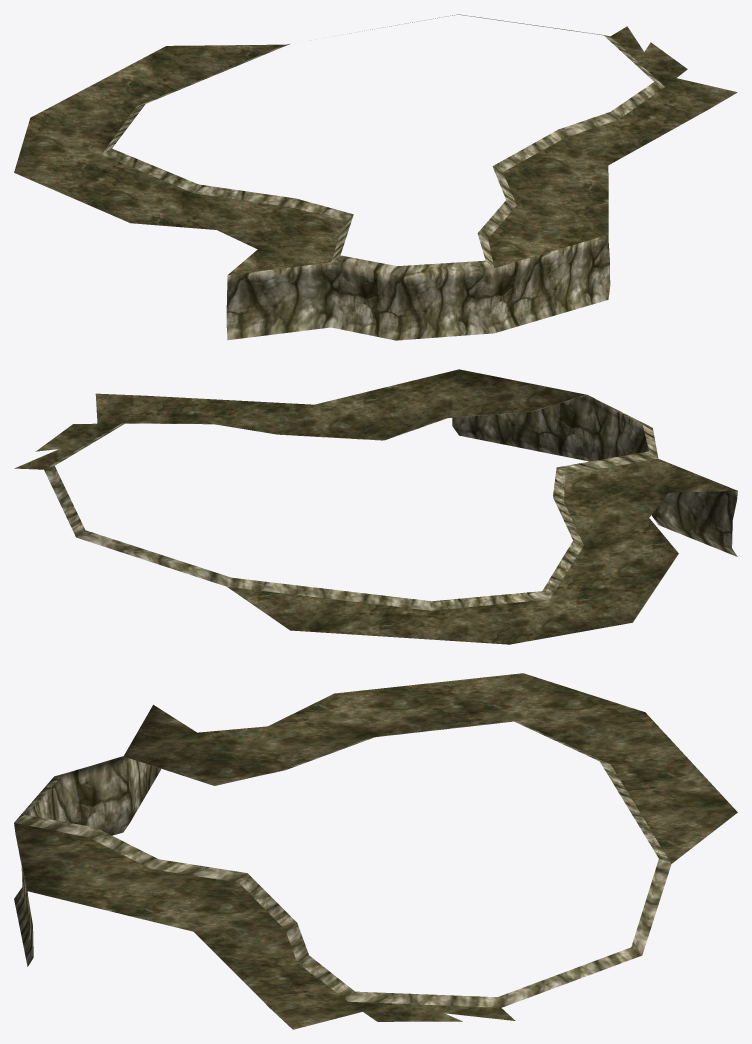
Rendered from CB_NEWPLAYSURFACE_CB_PLAYSURFACE132.fbx.
The picture shows the model from 3 angles, top to bottom: view 1: azimuth 30°, elevation 25°; view 2: azimuth 150°, elevation 25°; view 3: azimuth 270°, elevation 25°; orthographic projection. The views are drawn at different scales.
Parts seen in each view (by area): view 1: CB_NEWPLAYSURFACE_CB_PLAYSURFACE132; view 2: CB_NEWPLAYSURFACE_CB_PLAYSURFACE132; view 3: CB_NEWPLAYSURFACE_CB_PLAYSURFACE132.
Boxes of the visible parts, left/top/right/bottom form: CB_NEWPLAYSURFACE_CB_PLAYSURFACE132: left=14, top=14, right=737, bottom=340; CB_NEWPLAYSURFACE_CB_PLAYSURFACE132: left=14, top=369, right=737, bottom=644; CB_NEWPLAYSURFACE_CB_PLAYSURFACE132: left=14, top=673, right=737, bottom=1029.
Bounding box in the file's own units: 402182 × 42968 × 345052.
Materials: 2 (2 with a texture image).
